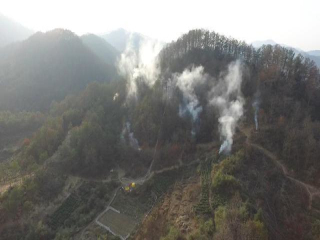smoke: (114, 35, 261, 155)
